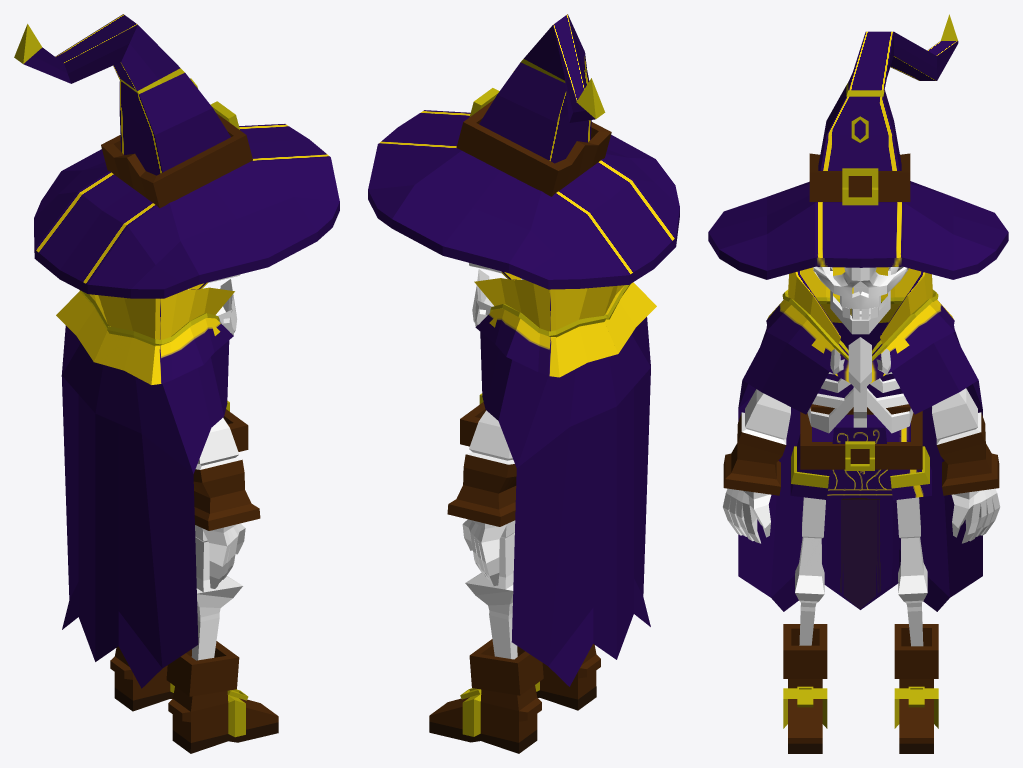
The model's file is Lowpolyszkielet.glb.
3 renders of one model, left to right at view 1: azimuth 30°, elevation 25°; view 2: azimuth 150°, elevation 25°; view 3: azimuth 270°, elevation 25°, orthographic. The views are drawn at different scales.
Visible parts, largest first — view 1: Cube.008, Cube.001, Cube.022, Cube.002, Cube.020, Cube.018, Cube.021, Cube.025, Cube.019, Cube.024, Cube.009, Cube.023 (+3 smaller); view 2: Cube.008, Cube.001, Cube.025, Cube.002, Cube.020, Cube.018, Cube.021, Cube.022, Cube.019, Cube.027, Cube.009, Cube.026 (+3 smaller); view 3: Cube.008, Cube.001, Plane, Cube.018, Cube.020, Cube.022, Cube.025, Cube.016, Cube.019, Cube.021, Cube, Cube.013 (+9 smaller).
Boxes of the visible parts, <box> form: Cube.008: <box>56,282,234,688</box>; Cube.001: <box>23,14,339,298</box>; Cube.022: <box>166,641,278,742</box>; Cube.002: <box>101,113,252,208</box>; Cube.020: <box>193,459,260,530</box>; Cube.018: <box>191,525,242,660</box>; Cube.021: <box>202,523,245,588</box>; Cube.025: <box>110,646,170,700</box>; Cube.019: <box>195,418,241,469</box>; Cube.024: <box>172,722,278,753</box>; Cube.009: <box>79,290,219,345</box>; Cube.023: <box>227,689,248,737</box>; Cube.008: <box>474,271,656,686</box>; Cube.001: <box>368,14,679,289</box>; Cube.025: <box>429,639,543,742</box>; Cube.002: <box>456,100,611,196</box>; Cube.020: <box>447,454,516,526</box>; Cube.018: <box>465,520,517,659</box>; Cube.021: <box>462,519,506,585</box>; Cube.022: <box>540,644,600,699</box>; Cube.019: <box>466,410,514,464</box>; Cube.027: <box>429,721,537,753</box>; Cube.009: <box>490,284,630,337</box>; Cube.026: <box>460,688,481,736</box>; Cube.008: <box>738,267,982,611</box>; Cube.001: <box>708,31,1008,279</box>; Plane: <box>827,427,892,609</box>; Cube.018: <box>795,497,927,646</box>; Cube.020: <box>723,413,999,495</box>; Cube.022: <box>783,624,827,743</box>; Cube.025: <box>894,624,938,743</box>; Cube.016: <box>800,404,922,469</box>; Cube.019: <box>741,388,981,444</box>; Cube.021: <box>723,488,1000,543</box>; Cube: <box>813,266,908,334</box>; Cube.013: <box>807,372,913,433</box>.
Bounding box in the file's own units: 1.57 × 4.21 × 1.7.
Materials: 7 (3 with a texture image).
